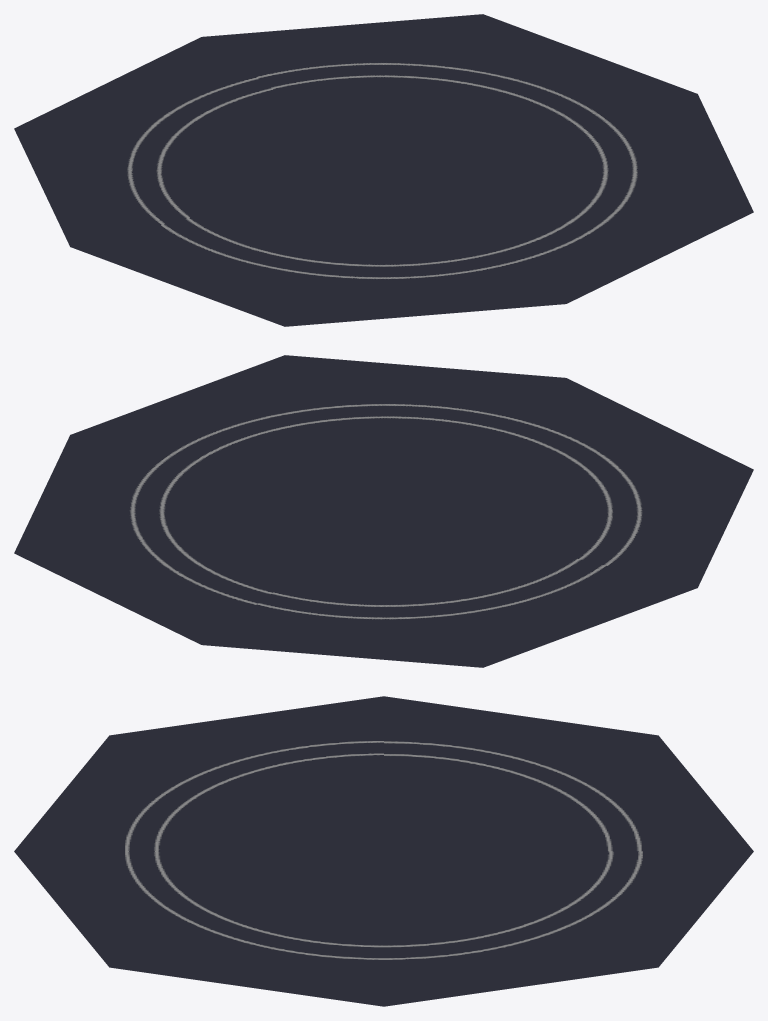
The model's file is Tapete.glb.
3 views of the same model, one above another, from view 1: azimuth 30°, elevation 25°; view 2: azimuth 150°, elevation 25°; view 3: azimuth 270°, elevation 25° (orthographic).
Parts seen in each view (by area): view 1: CarpetOffice; view 2: CarpetOffice; view 3: CarpetOffice.
Boxes of the visible parts, x1=… form: CarpetOffice: x1=14, y1=14, x2=753, y2=326; CarpetOffice: x1=14, y1=355, x2=753, y2=667; CarpetOffice: x1=14, y1=696, x2=753, y2=1006.
Bounding box in the file's own units: 7.91 × 0 × 7.96.
1 material, 1 textured.
